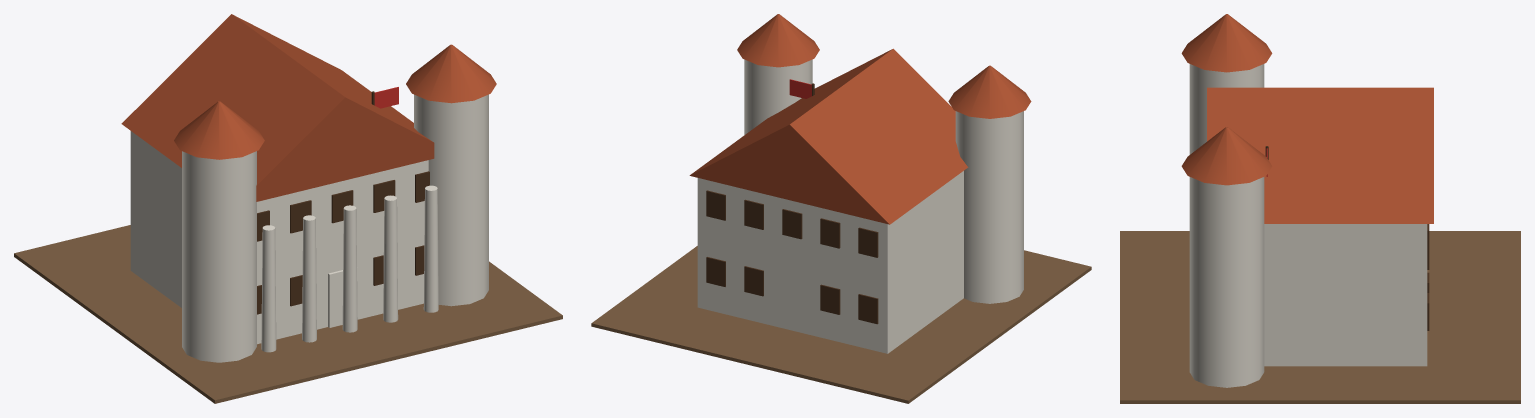
Rendered from bld_special_command_center_a02.glb.
3 views of the same model, side by side, from view 1: azimuth 30°, elevation 25°; view 2: azimuth 150°, elevation 25°; view 3: azimuth 270°, elevation 25° (orthographic). The views are drawn at different scales.
Visible parts, largest first — view 1: body; view 2: body; view 3: body.
Boxes of the visible parts, x1,y1,x2,y2 form: body: (14, 14, 562, 403); body: (591, 14, 1091, 403); body: (1120, 14, 1520, 403).
Size of what is drawn, in the model's own units: 15 by 10.25 by 15.
